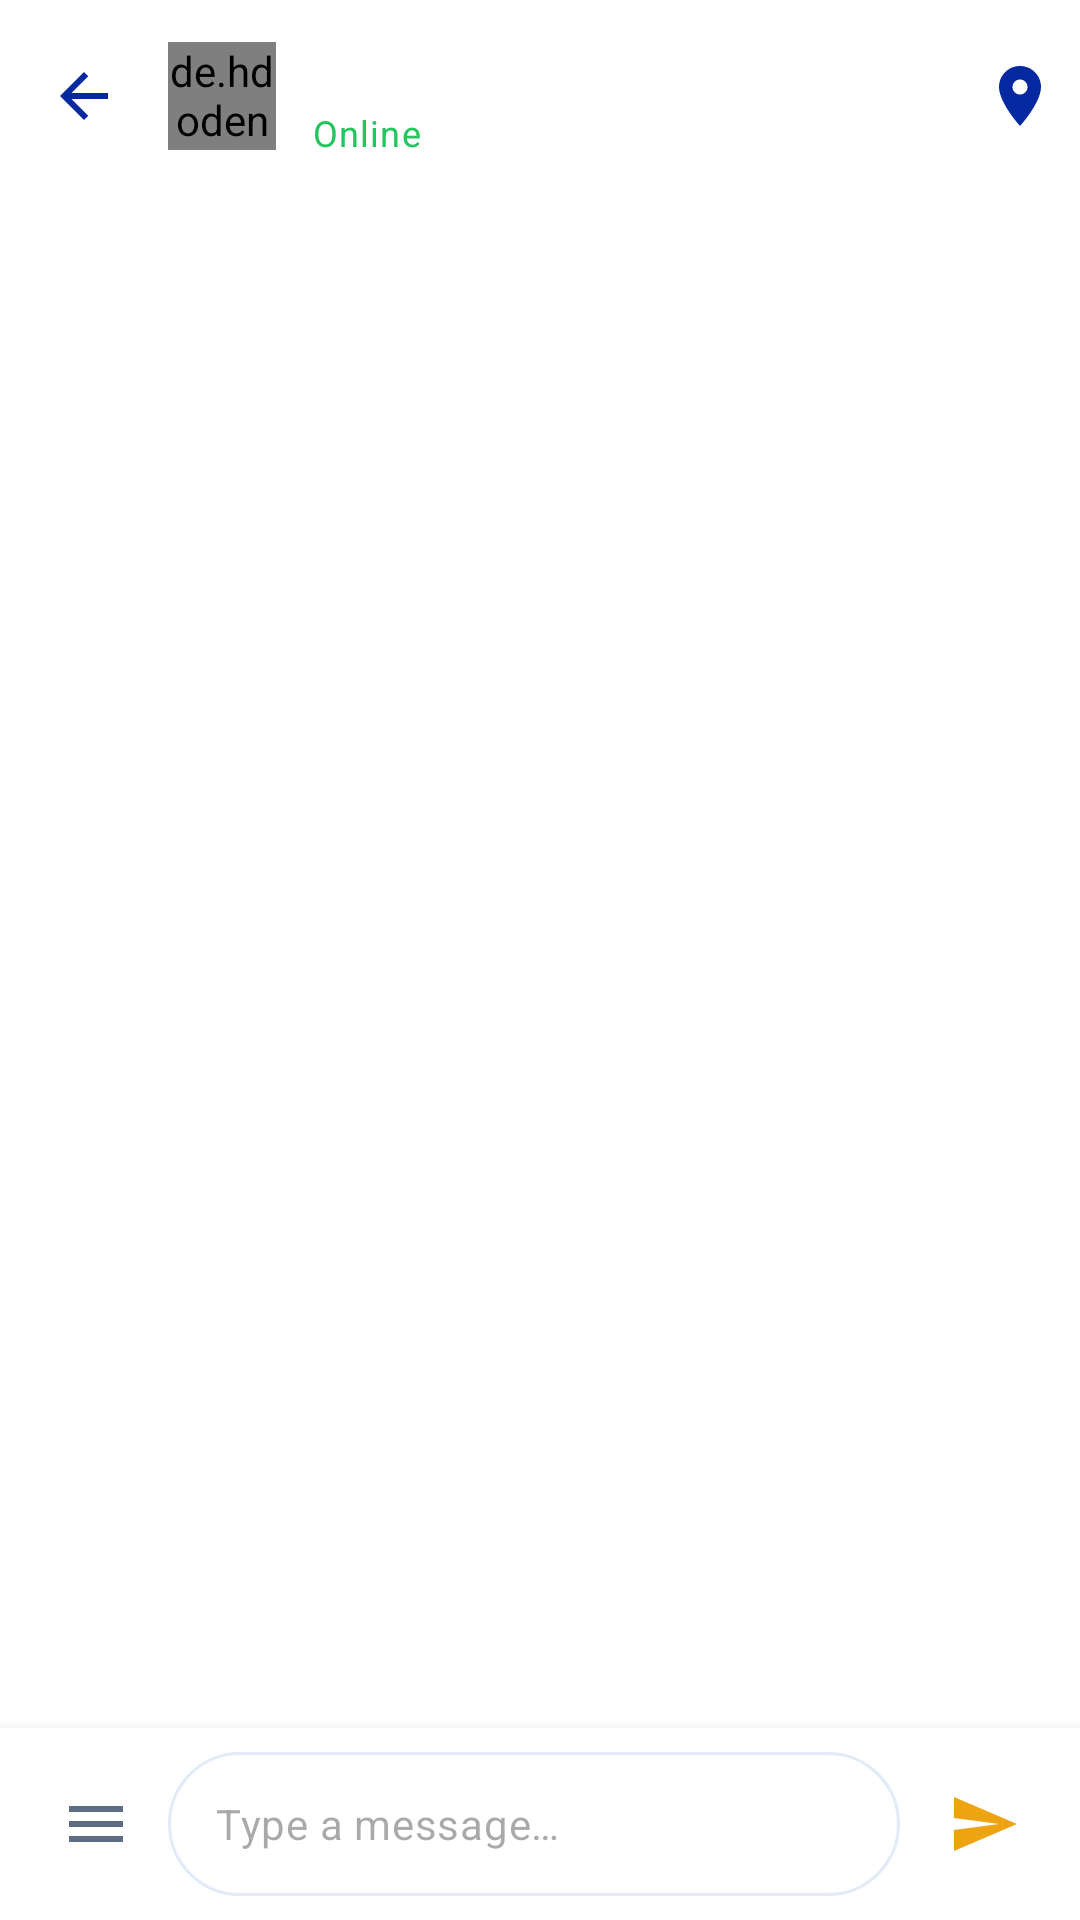

Icons on this 1080*1920 Android screen, each with the point to tap as point (x, y):
location: point (1020, 96)
menu: point (96, 1824)
send: point (985, 1824)
